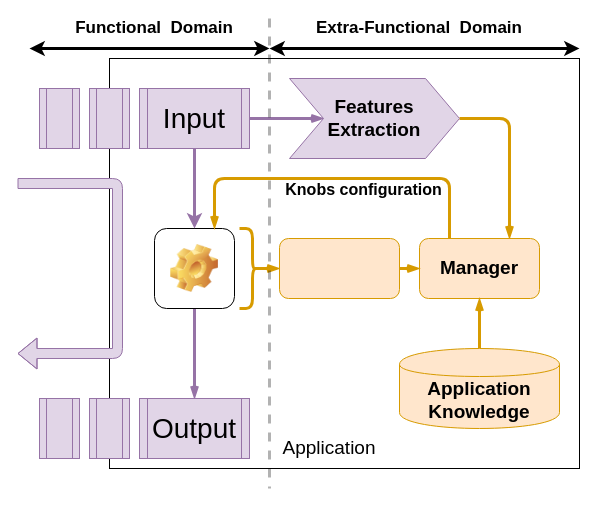
The diagram is 607 pixels wide and 508 high, and some of its shapes have lost their labels. The centre of each missing label's shape, as x and y in pixels:
Application kernel: the point at 194,268
Monitors: the point at 339,268
